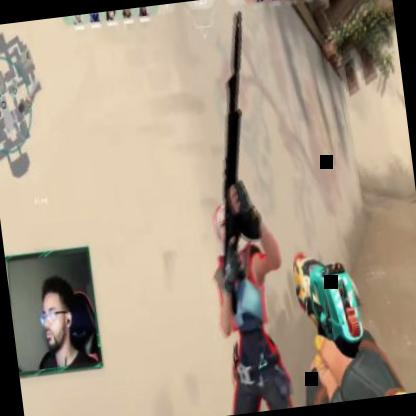enemy: (200, 198, 301, 416)
enemy_head: (211, 206, 240, 255)
